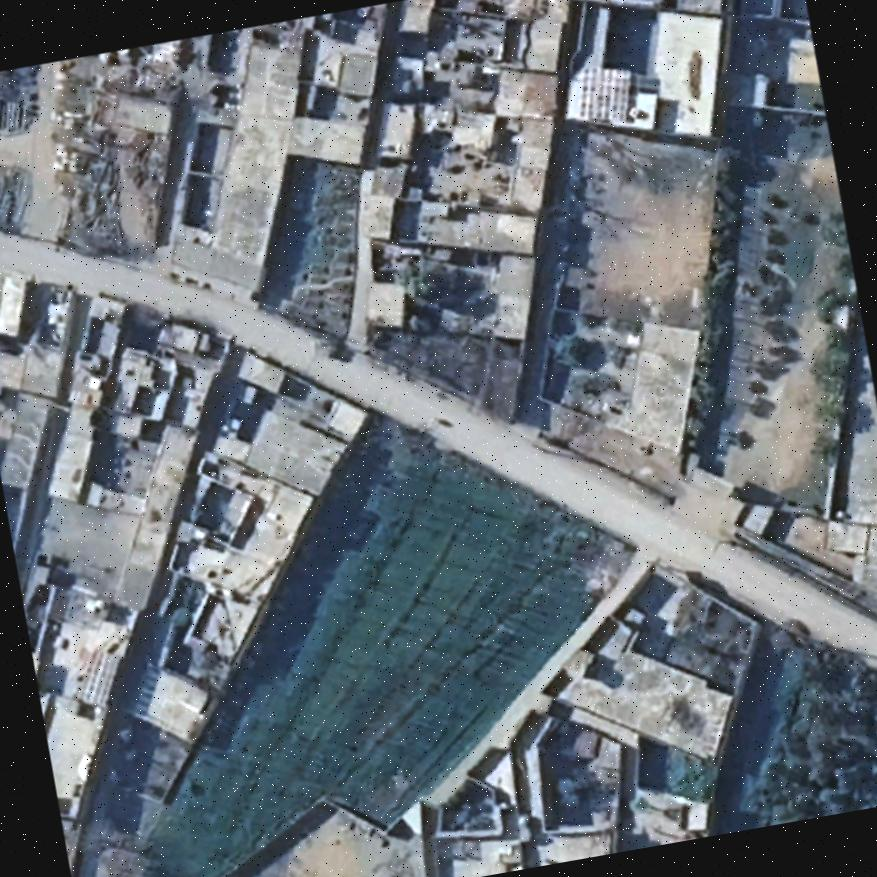Solarpanel: (570, 57, 642, 132), (75, 649, 120, 711)
